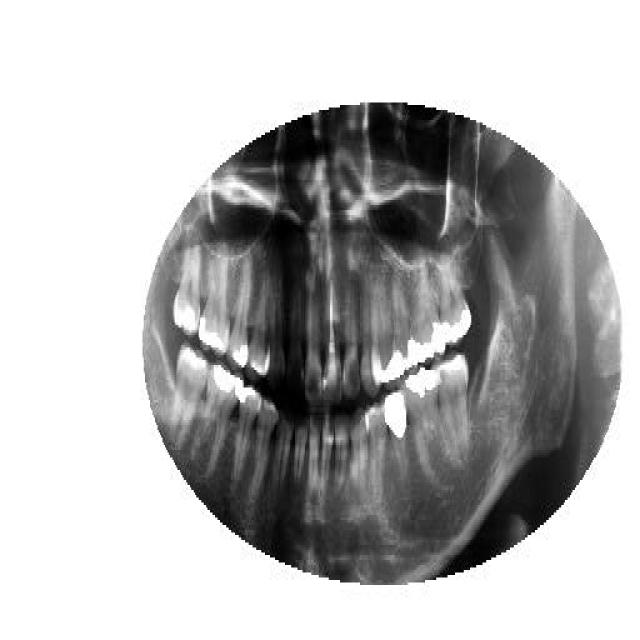Fillings: (195, 365, 243, 475), (373, 250, 408, 390), (408, 368, 448, 490), (406, 255, 446, 365), (439, 245, 471, 347), (381, 390, 411, 485), (172, 240, 202, 335), (228, 255, 252, 370)
